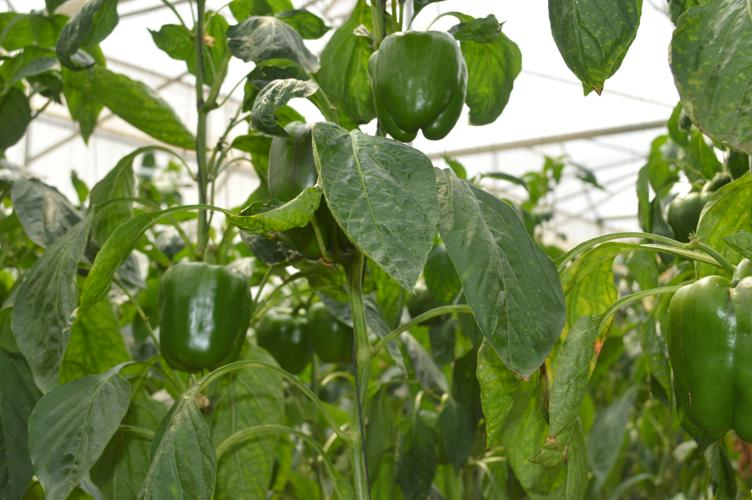BellPepper: (657, 275, 748, 445), (366, 28, 467, 144), (266, 124, 342, 257), (160, 263, 249, 368), (258, 310, 311, 373), (304, 306, 353, 364)
